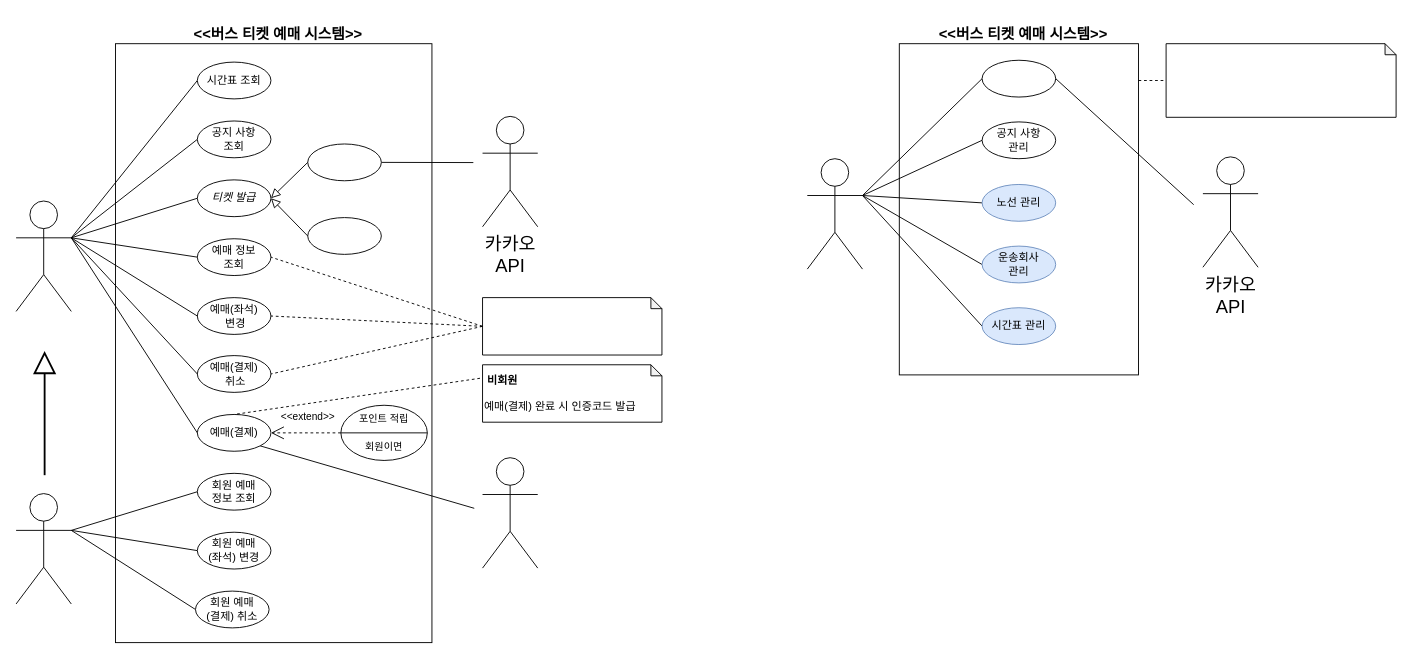
The diagram is 1412 pixels wide and 659 high, and some of its shapes have lost their labels. The shapes that lost their labels are listed below. From the top down, each one's box as (x1, y1, x2, y2) in pixels, then its label:
(981, 59, 1056, 97): 카카오톡 알림
(1165, 43, 1396, 117): 관리자 파란색 유스 케이스는 구현 내용에 포함 안됨.
(307, 143, 381, 181): 모바일 티켓 발급
(806, 158, 862, 269): 관리자
(15, 200, 71, 311): 비회원
(307, 217, 381, 254): 지류 티켓 발급
(482, 297, 662, 355): 비회원 전화번호와 인증코드를 통한 인증
(482, 457, 538, 568): KG이니시스 API
(15, 493, 71, 604): 회원
